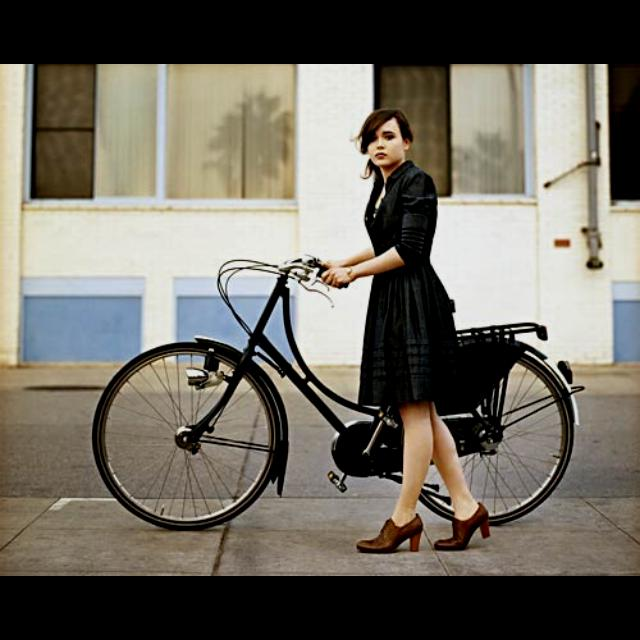Without Helmet: (354, 101, 414, 180)
